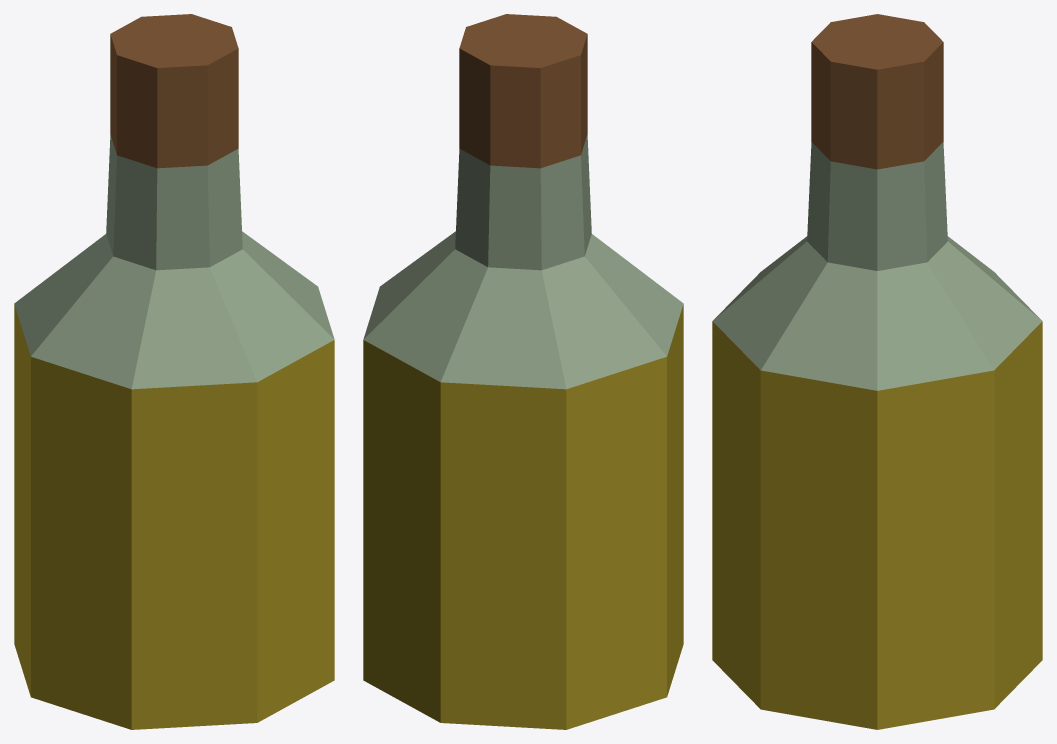
File: mclabe_oil_bottle.obj
3 views of the same model, side by side, from view 1: azimuth 30°, elevation 25°; view 2: azimuth 150°, elevation 25°; view 3: azimuth 270°, elevation 25° (orthographic).
Parts seen in each view (by area): view 1: mclabe_oil_bottle; view 2: mclabe_oil_bottle; view 3: mclabe_oil_bottle.
Boxes of the visible parts, x1,y1,x2,y2 form: mclabe_oil_bottle: [14, 14, 334, 729]; mclabe_oil_bottle: [363, 14, 683, 729]; mclabe_oil_bottle: [712, 14, 1042, 729].
Size of the model in its own units: 0.1172 by 0.2422 by 0.1172.
